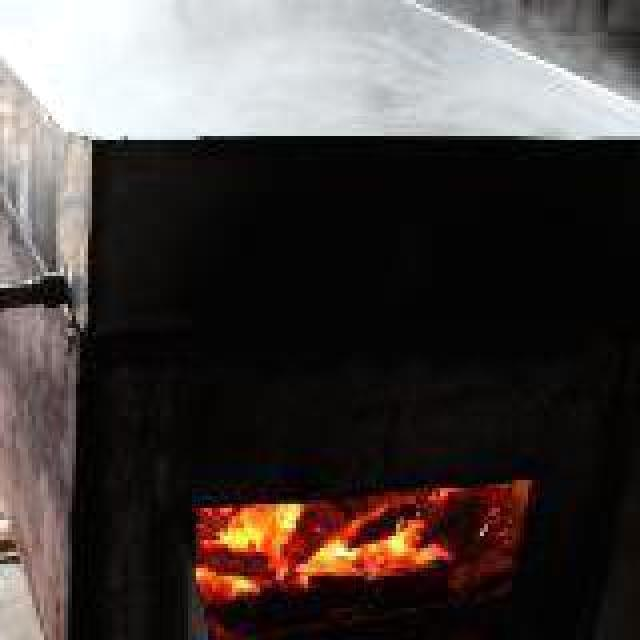fire: (0, 0, 640, 144), (192, 500, 452, 580)
